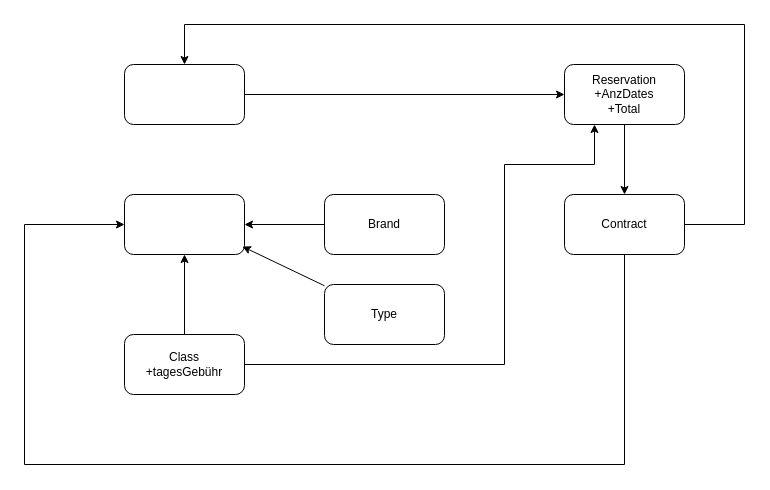
The diagram is 770 pixels wide and 490 high, and some of its shapes have lost their labels. Here are the shapes that lost their labels. From the top down, the box of each, then its label:
(124, 64, 244, 124): Customer +ID +Name
(124, 194, 244, 254): Car +ID
